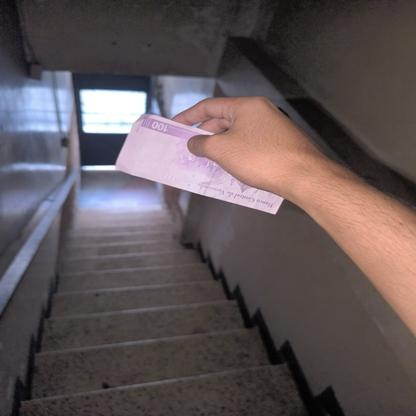one_hundred-back-vef: (114, 112, 286, 214)
